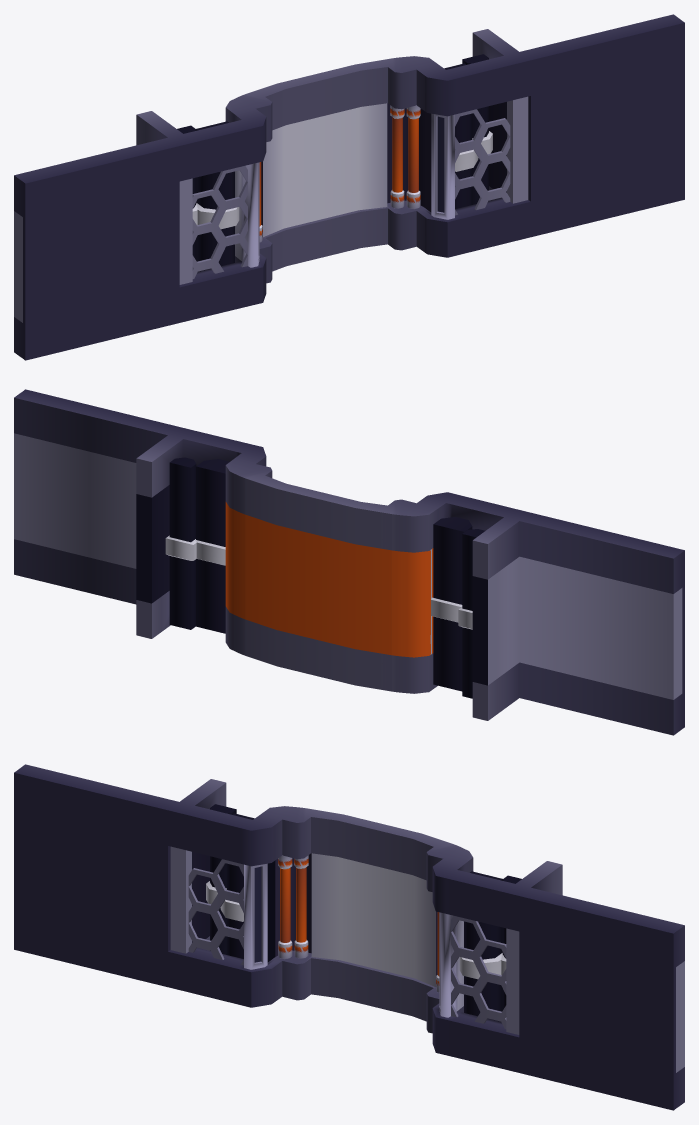
The model's file is Ceiling_3.fbx.
3 renders of one model, top to bottom at view 1: azimuth 30°, elevation 25°; view 2: azimuth 150°, elevation 25°; view 3: azimuth 330°, elevation 25°, orthographic.
Visible parts, largest first — view 1: ceiling_3; view 2: ceiling_3; view 3: ceiling_3.
Part boxes in pixels (x1,y1,x2,y2): ceiling_3: (14,14,684,360); ceiling_3: (14,389,684,735); ceiling_3: (14,764,684,1110).
Bounding box in the file's own units: 5.1 × 1.31 × 0.5787.
1 material, 1 textured.
